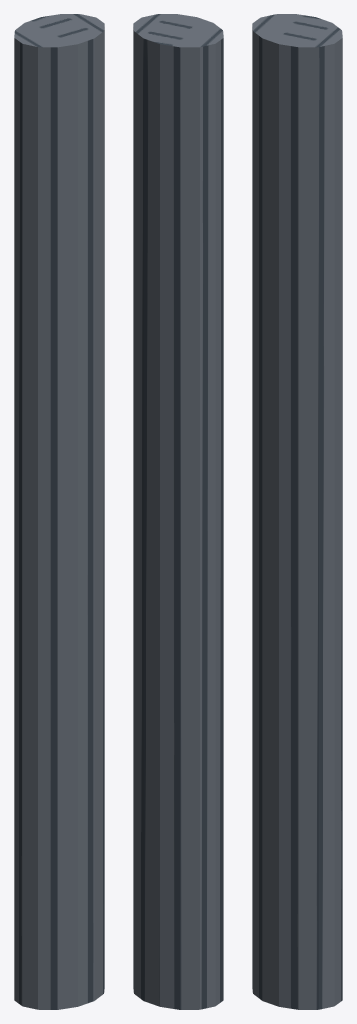
File: sign post.fbx
3 views of the same model, side by side, from view 1: azimuth 30°, elevation 25°; view 2: azimuth 150°, elevation 25°; view 3: azimuth 330°, elevation 25° (orthographic).
Visible parts, largest first — view 1: Cylinder; view 2: Cylinder; view 3: Cylinder.
Part boxes in pixels (left/top/right/bottom): Cylinder: left=14, top=14, right=104, bottom=1009; Cylinder: left=133, top=14, right=223, bottom=1009; Cylinder: left=252, top=14, right=342, bottom=1009.
Bounding box in the file's own units: 55.39 × 619 × 43.11.
1 material, 1 textured.
